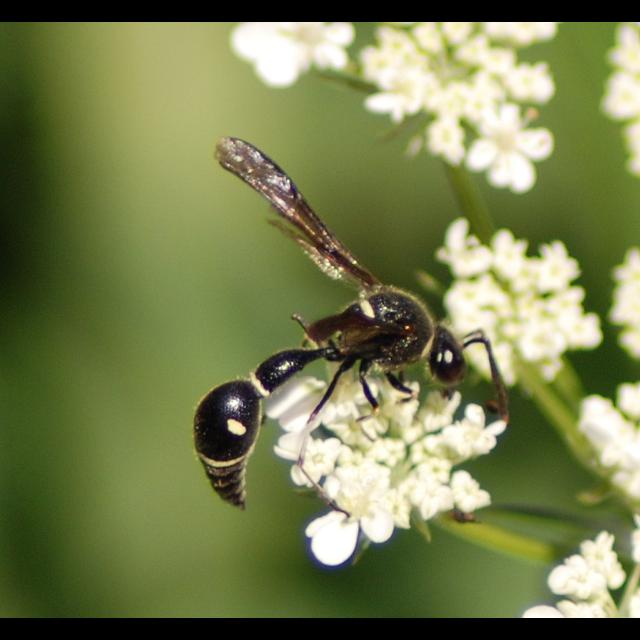Flower: (228, 22, 556, 196), (263, 346, 505, 570), (432, 220, 608, 390), (513, 522, 639, 618), (571, 383, 639, 501), (595, 22, 639, 178), (605, 245, 639, 368)
